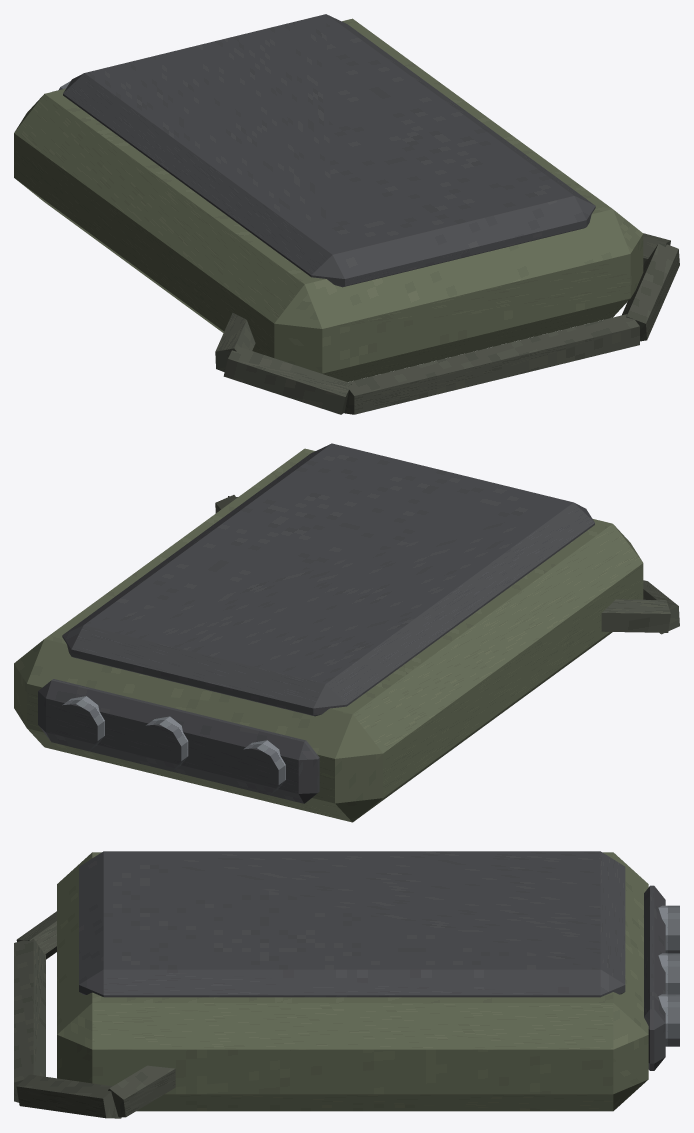
The model's file is UPS_OFF.glb.
The picture shows the model from 3 angles, top to bottom: view 1: azimuth 30°, elevation 25°; view 2: azimuth 150°, elevation 25°; view 3: azimuth 270°, elevation 25°; orthographic projection.
Parts seen in each view (by area): view 1: block_rubber top rail, block_portable power pack shell, block_folded carry strap 2, block_folded carry strap 1, block_folded carry strap 3, block_folded carry strap 0; view 2: block_rubber top rail, block_portable power pack shell, block_recessed port panel, block_folded carry strap 0, block_recessed socket (×3), block_folded carry strap 1; view 3: block_rubber top rail, block_portable power pack shell, block_folded carry strap 2, block_recessed port panel, block_folded carry strap 3, block_recessed socket (×3), block_folded carry strap 4, block_folded carry strap 1.
Boxes of the visible parts, x1=… form: block_rubber top rail: x1=63, y1=14, x2=595, y2=287; block_portable power pack shell: x1=14, y1=18, x2=643, y2=381; block_folded carry strap 2: x1=344, y1=314, x2=639, y2=414; block_folded carry strap 1: x1=223, y1=346, x2=351, y2=414; block_folded carry strap 3: x1=622, y1=243, x2=679, y2=341; block_folded carry strap 0: x1=215, y1=313, x2=255, y2=371; block_rubber top rail: x1=62, y1=443, x2=594, y2=716; block_portable power pack shell: x1=14, y1=448, x2=643, y2=822; block_recessed port panel: x1=38, y1=679, x2=319, y2=803; block_folded carry strap 0: x1=601, y1=599, x2=670, y2=632; block_recessed socket (×3): x1=62, y1=696, x2=285, y2=794; block_folded carry strap 1: x1=643, y1=580, x2=679, y2=634; block_rubber top rail: x1=79, y1=851, x2=625, y2=997; block_portable power pack shell: x1=57, y1=852, x2=648, y2=1111; block_folded carry strap 2: x1=14, y1=938, x2=45, y2=1102; block_recessed port panel: x1=644, y1=885, x2=665, y2=1070; block_folded carry strap 3: x1=16, y1=1074, x2=121, y2=1118; block_recessed socket (×3): x1=658, y1=905, x2=679, y2=1046; block_folded carry strap 4: x1=108, y1=1065, x2=175, y2=1117; block_folded carry strap 1: x1=16, y1=911, x2=56, y2=959.
Bounding box in the file's own units: 0.2043 × 0.0545 × 0.2579.
Materials: 1 (1 with a texture image).
